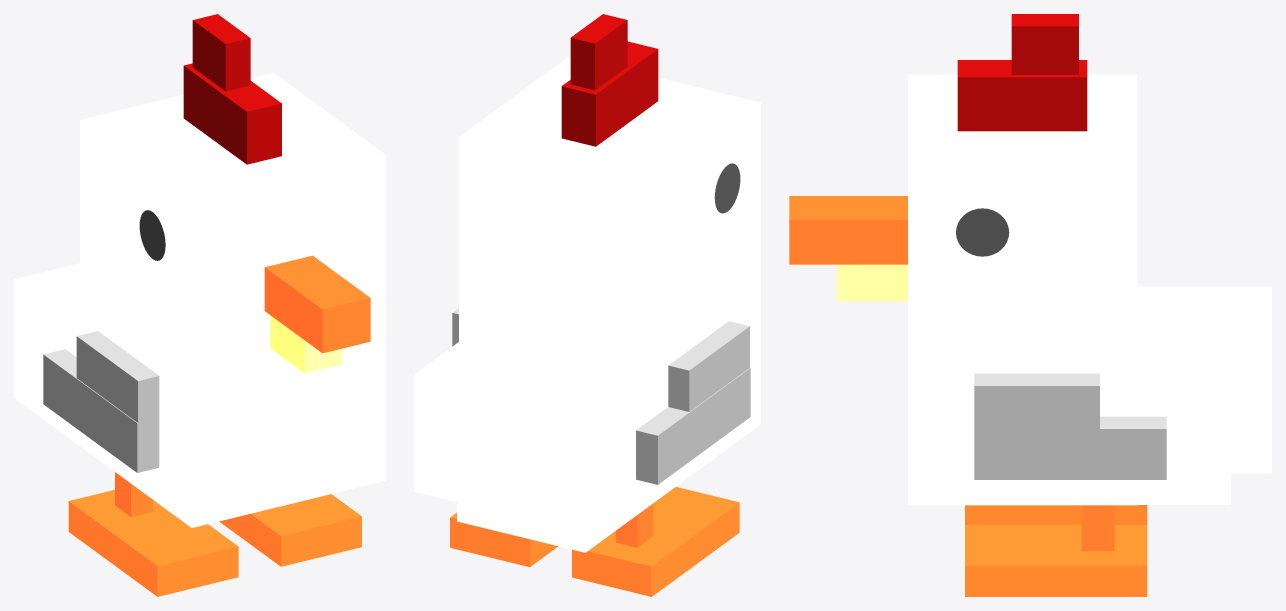
The model's file is chicken.gltf.
3 renders of one model, left to right at view 1: azimuth 30°, elevation 25°; view 2: azimuth 150°, elevation 25°; view 3: azimuth 270°, elevation 25°, orthographic. The views are drawn at different scales.
Visible parts, largest first — view 1: Body, Leg_1_1 (×2), Box (×3), Tail_2, Mouth_1, Cap, Mouth_2, Leg_1, Circle; view 2: Body, Tail_2, Box (×3), Leg_1_1 (×2), Tail_1, Cap, Leg_1, Circle; view 3: Body, Box (×3), Leg_1_1 (×2), Tail_2, Tail_1, Cap, Mouth_1, Mouth_2, Circle, Leg_1.
Part boxes in pixels (x1=…): Body: x1=80, y1=72, x2=385, y2=527; Leg_1_1 (×2): x1=68, y1=490, x2=361, y2=596; Box (×3): x1=43, y1=14, x2=250, y2=472; Tail_2: x1=14, y1=263, x2=79, y2=445; Mouth_1: x1=264, y1=255, x2=370, y2=353; Cap: x1=183, y1=63, x2=281, y2=164; Mouth_2: x1=270, y1=315, x2=341, y2=373; Leg_1: x1=115, y1=472, x2=152, y2=516; Circle: x1=139, y1=210, x2=165, y2=260; Body: x1=459, y1=56, x2=760, y2=504; Tail_2: x1=457, y1=357, x2=650, y2=552; Box (×3): x1=570, y1=14, x2=750, y2=484; Leg_1_1 (×2): x1=450, y1=487, x2=739, y2=596; Tail_1: x1=414, y1=341, x2=521, y2=501; Cap: x1=561, y1=41, x2=658, y2=146; Leg_1: x1=616, y1=503, x2=653, y2=547; Circle: x1=714, y1=163, x2=740, y2=213; Body: x1=908, y1=74, x2=1137, y2=505; Box (×3): x1=974, y1=14, x2=1166, y2=479; Leg_1_1 (×2): x1=965, y1=505, x2=1147, y2=596; Tail_2: x1=1137, y1=286, x2=1271, y2=473; Tail_1: x1=1137, y1=351, x2=1230, y2=504; Cap: x1=957, y1=60, x2=1087, y2=131; Mouth_1: x1=789, y1=196, x2=907, y2=264; Mouth_2: x1=837, y1=264, x2=907, y2=301; Circle: x1=956, y1=208, x2=1009, y2=256; Leg_1: x1=1081, y1=505, x2=1114, y2=551.
Bounding box in the file's own units: 1.07 × 2.18 × 1.81.
